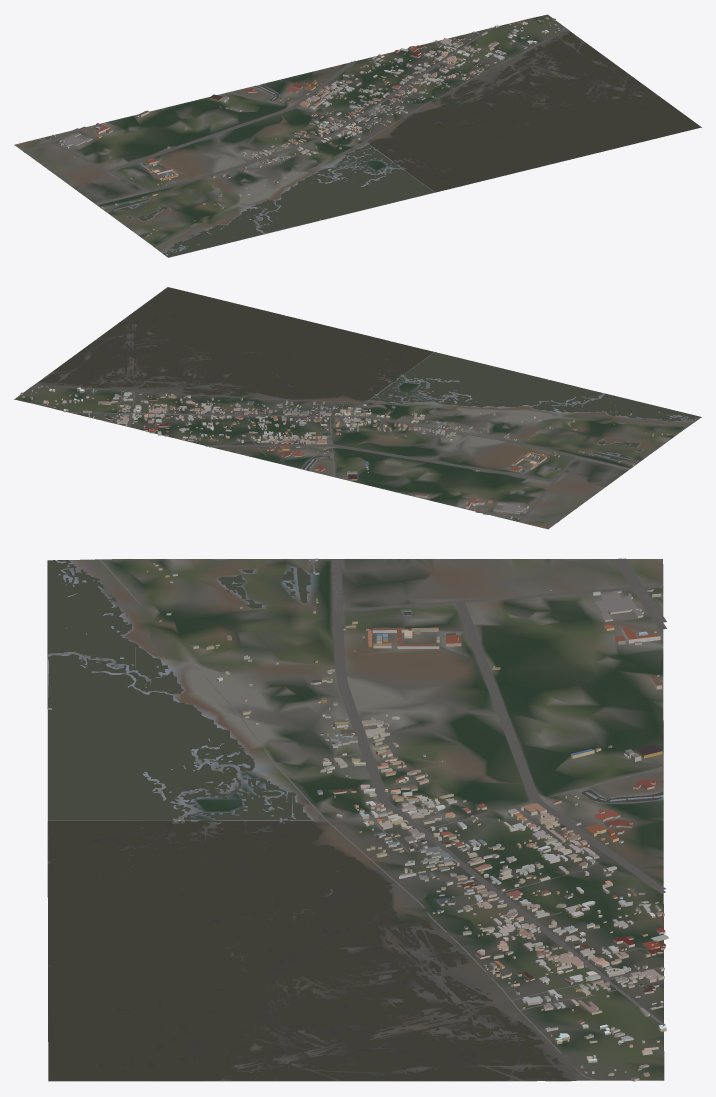
3 renders of one model, top to bottom at view 1: azimuth 30°, elevation 25°; view 2: azimuth 150°, elevation 25°; view 3: azimuth 270°, elevation 25°, orthographic. The views are drawn at different scales.
Visible parts, largest first — view 1: ground, water, buildings, roads; view 2: ground, water, buildings, roads; view 3: ground, water, buildings, roads.
Part boxes in pixels (<box>): ground: <box>14,14,701,257</box>; water: <box>114,31,701,257</box>; buildings: <box>49,17,560,236</box>; roads: <box>23,26,564,247</box>; ground: <box>14,288,701,529</box>; water: <box>38,287,700,472</box>; buildings: <box>20,386,670,519</box>; roads: <box>31,385,688,522</box>; ground: <box>47,559,664,1081</box>; water: <box>47,560,663,1080</box>; buildings: <box>146,558,668,1081</box>; roads: <box>99,558,666,1080</box>.
Bounding box in the file's own units: 2810 × 15.95 × 1413.
